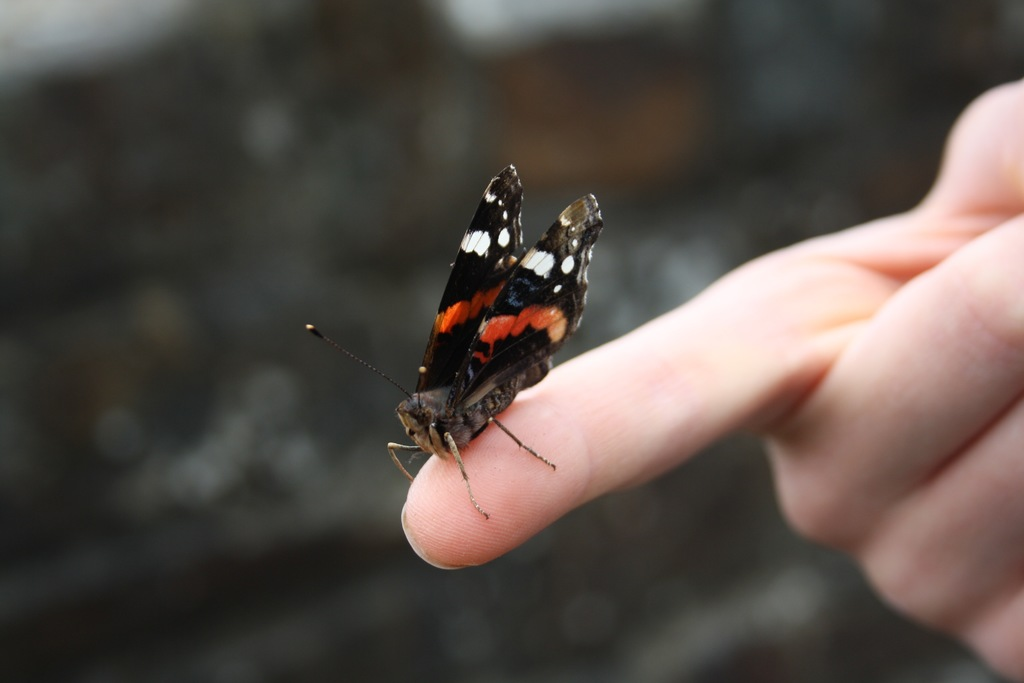Butterfly: (356, 164, 626, 507)
